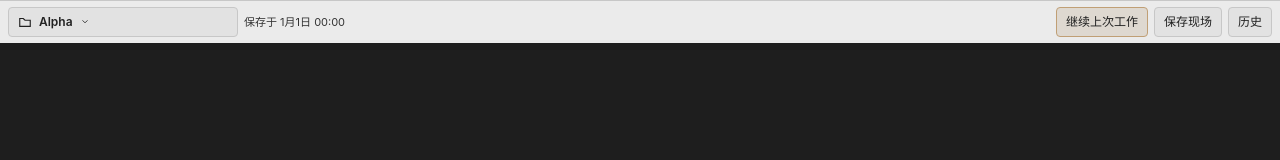
Test: project-centered scene controls › blocks repeated clicks while a continue is pending and reports focus separately
The width and height of the screenshot is (1280, 160).
Click the button "继续上次工作" at (1102, 22), box [1056,7,1148,37]
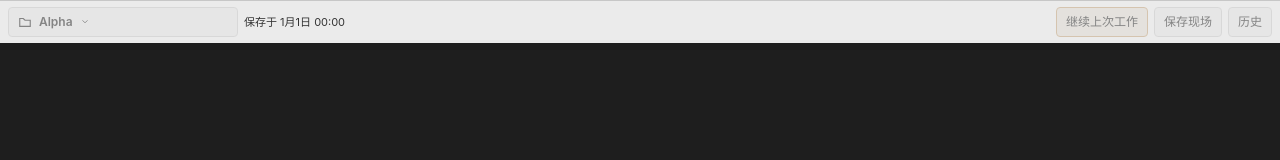
Click the button "继续上次工作" at (1102, 22), box [1056,7,1148,37]
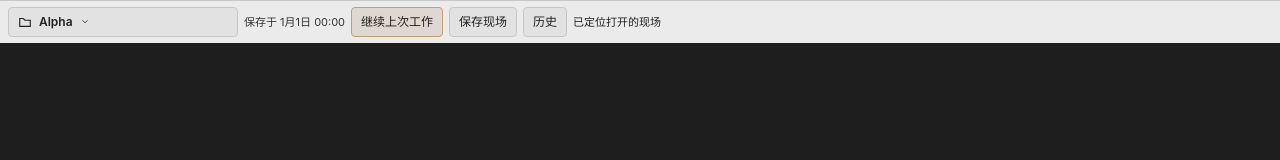
Expected: the message reads "已定位打开的现场", [573,15,661,29]
